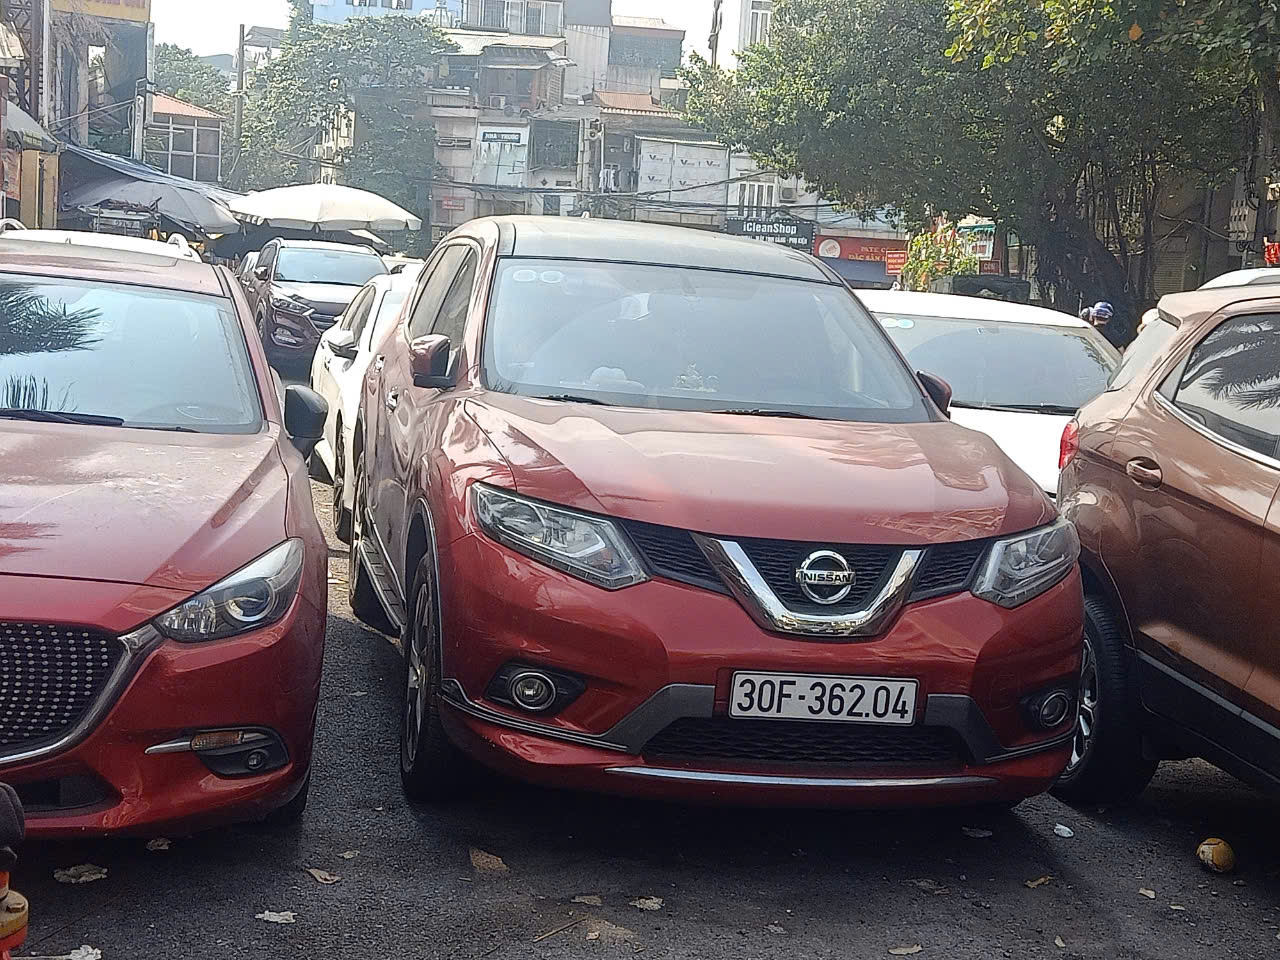bien_so: (731, 669, 919, 726)
